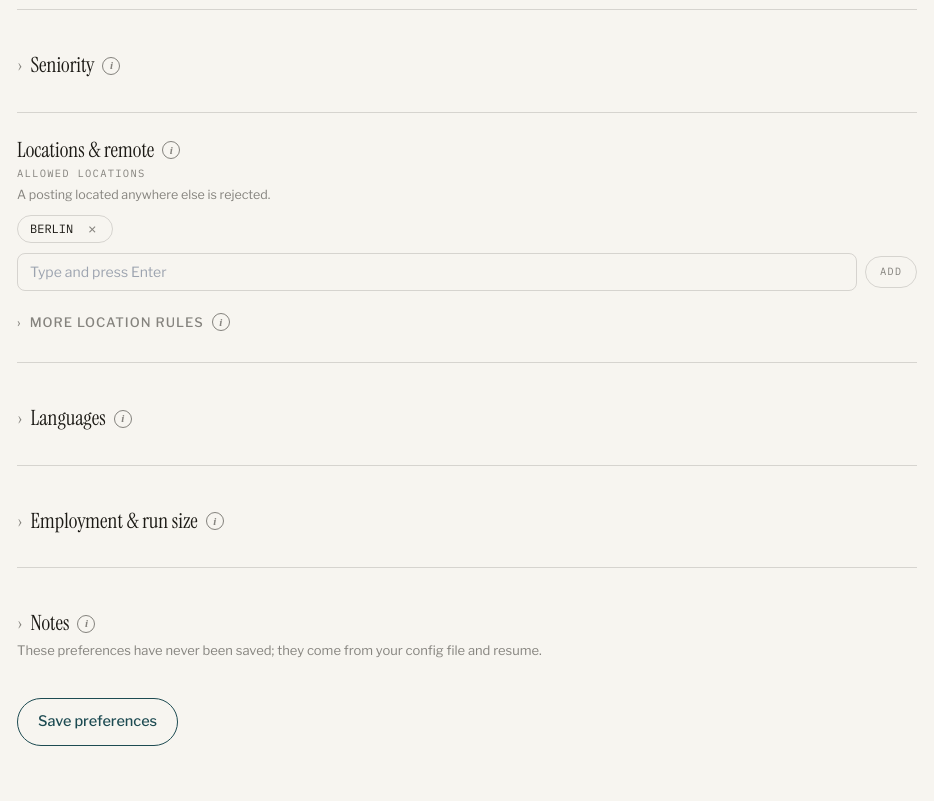
Test: preferences screen › opens the section holding a refused field so its message is not hidden
The width and height of the screenshot is (934, 801).
(page scrolled)
Click the button "Save preferences" at (98, 722), box [17,698,178,746]
(page scrolled)
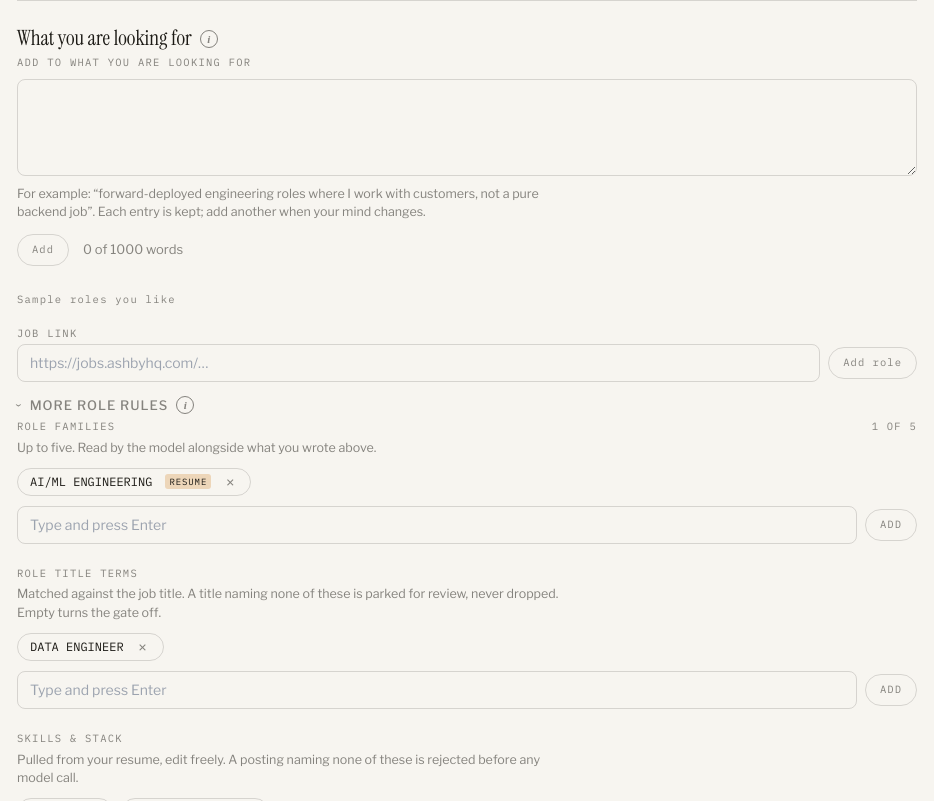
Result: the button "› More role rules" is expanded at [17,396,168,415]
